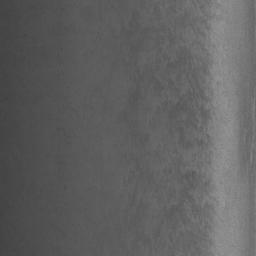Silk spot: (120, 0, 219, 256), (124, 112, 149, 146)
